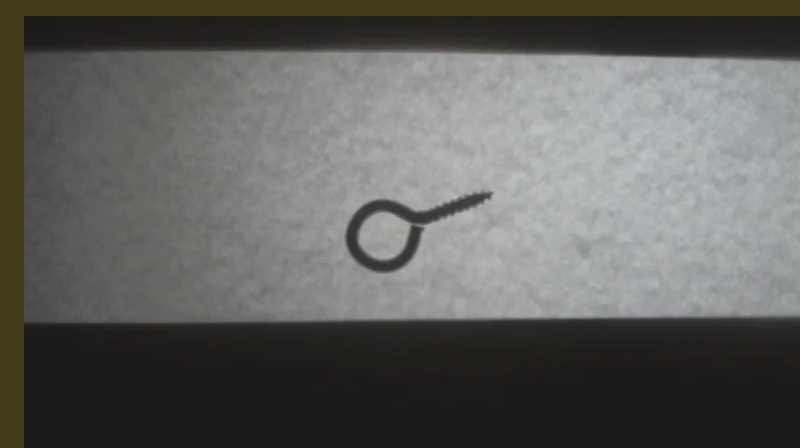O001: (339, 185, 496, 277)
